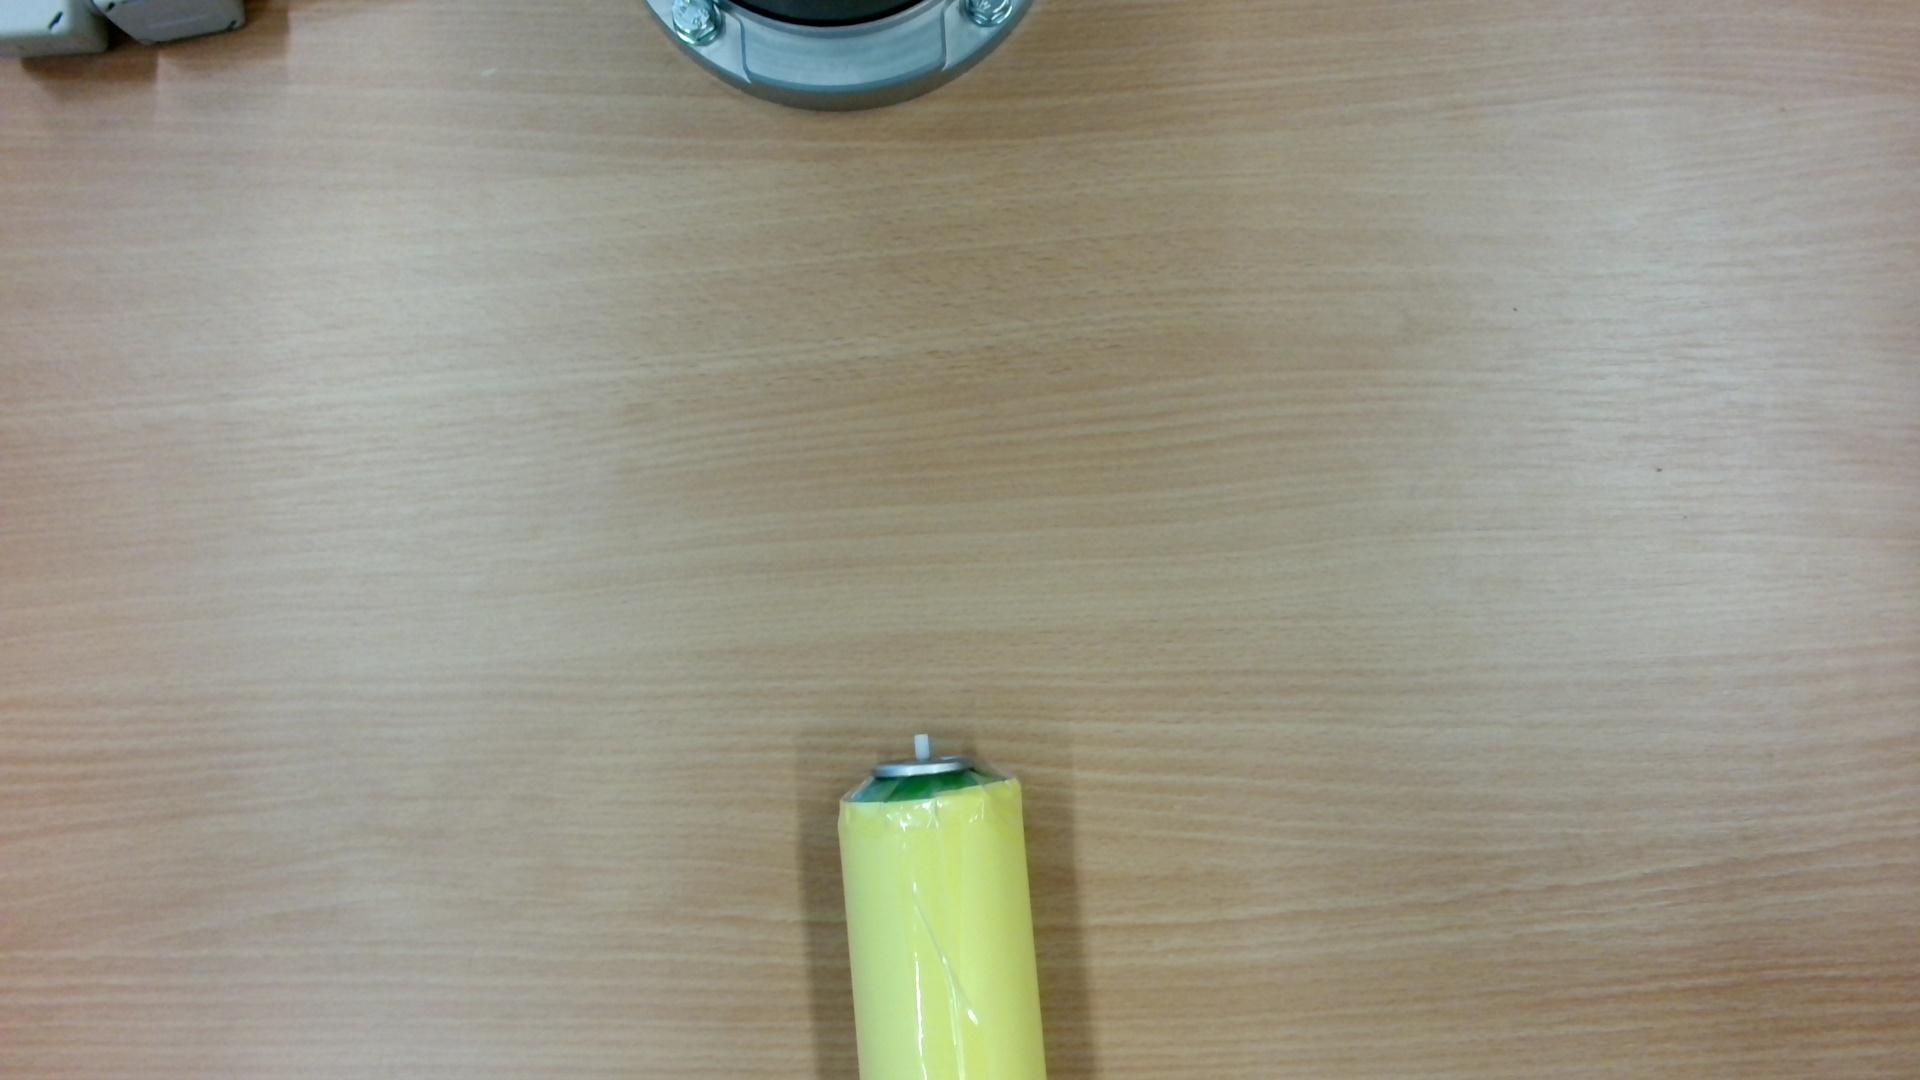Cylinder: (810, 724, 1065, 1080)
